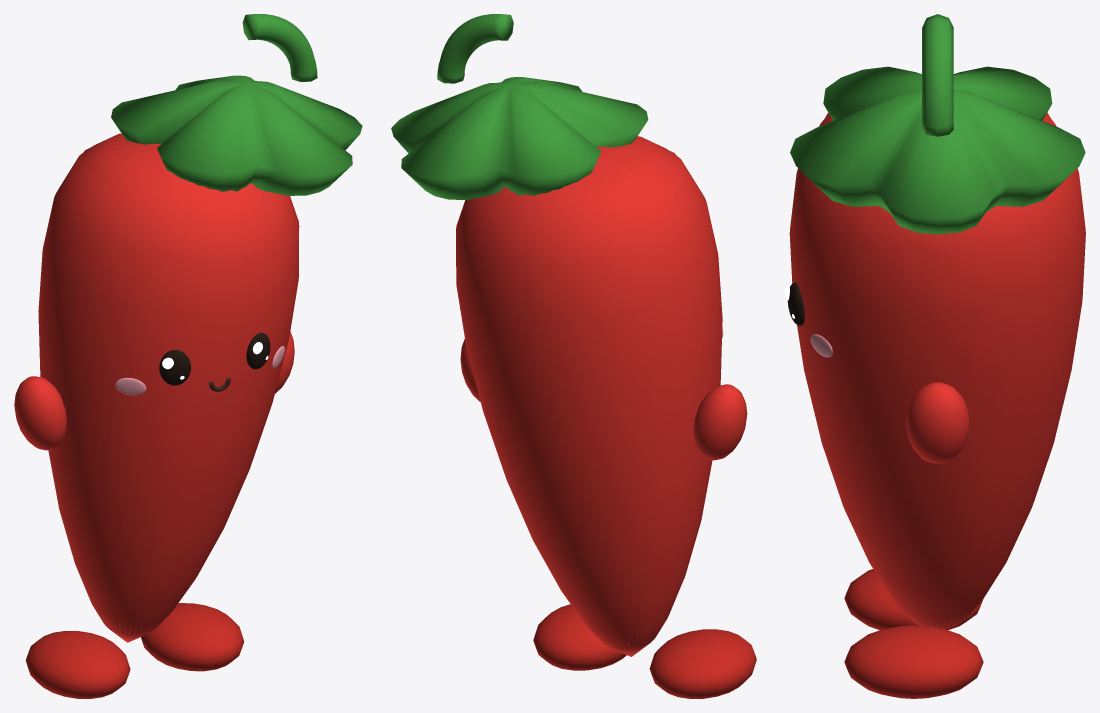
File: chili.glb
3 renders of one model, left to right at view 1: azimuth 30°, elevation 25°; view 2: azimuth 150°, elevation 25°; view 3: azimuth 270°, elevation 25°, orthographic. The views are drawn at different scales.
Parts seen in each view (by area): view 1: chili; view 2: chili; view 3: chili.
Part boxes in pixels (box(x1,y1,x2,y2)): chili: box(14, 14, 362, 698); chili: box(391, 14, 756, 698); chili: box(785, 14, 1085, 698).
Size of the model in its own units: 0.0561 by 0.0994 by 0.0379.
